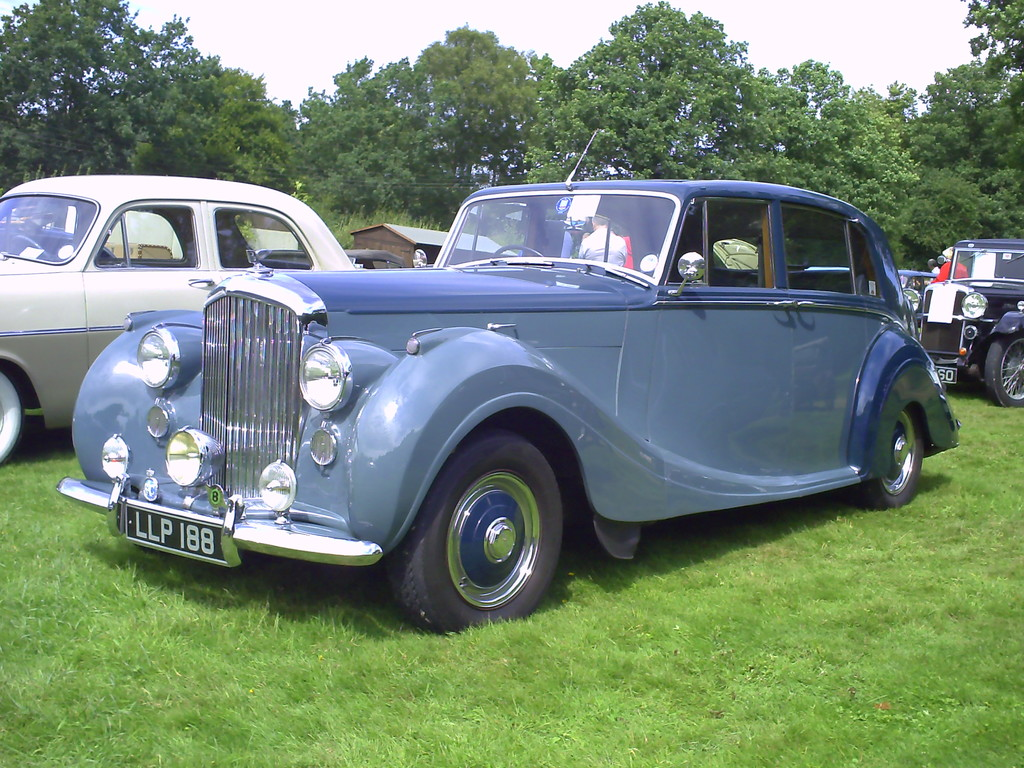Car: (55, 130, 964, 633), (0, 175, 359, 464), (904, 240, 1024, 406)
